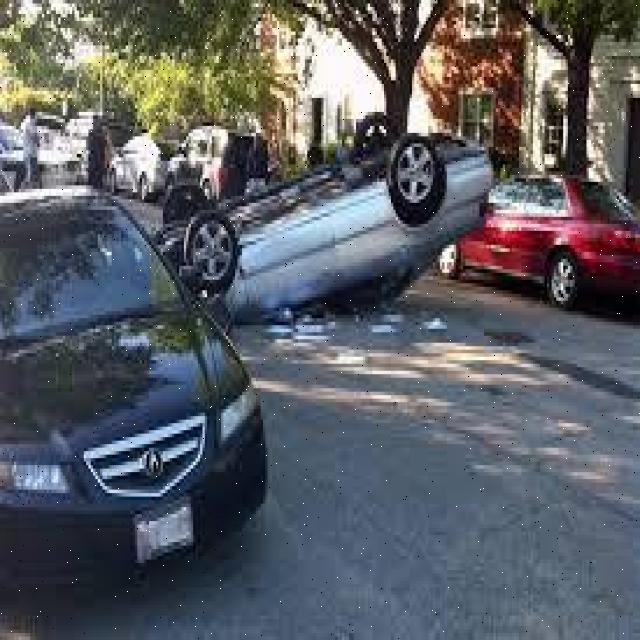severe: (149, 107, 496, 334)
